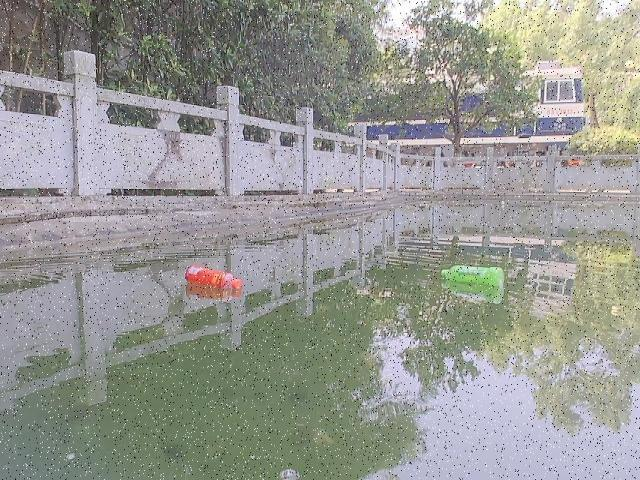Bottle: (434, 262, 512, 296), (179, 262, 247, 296)
